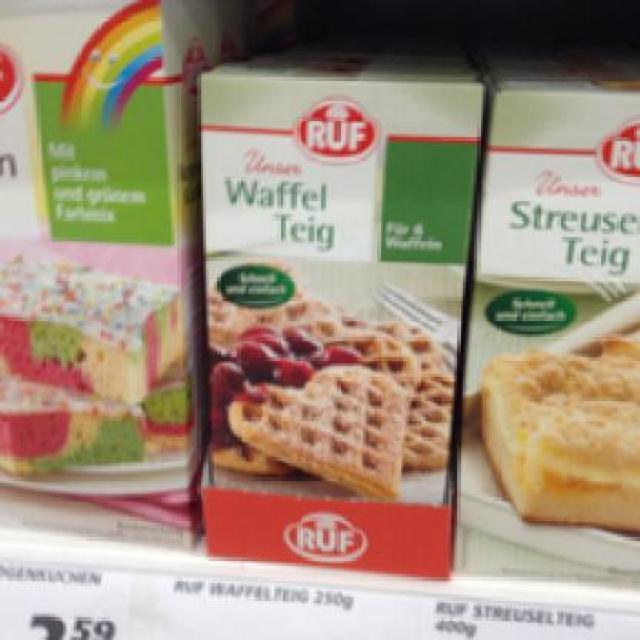Cake: (188, 56, 483, 590), (452, 77, 638, 550)
